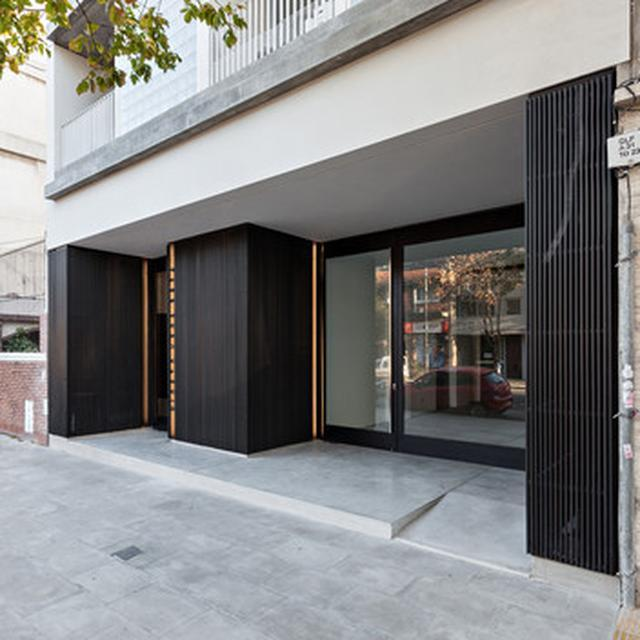building: (44, 0, 640, 603)
